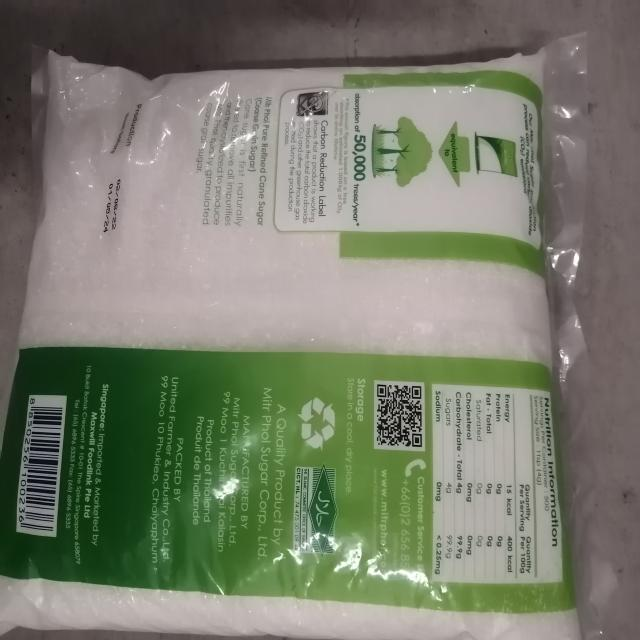object_name: (30, 61, 589, 632)
